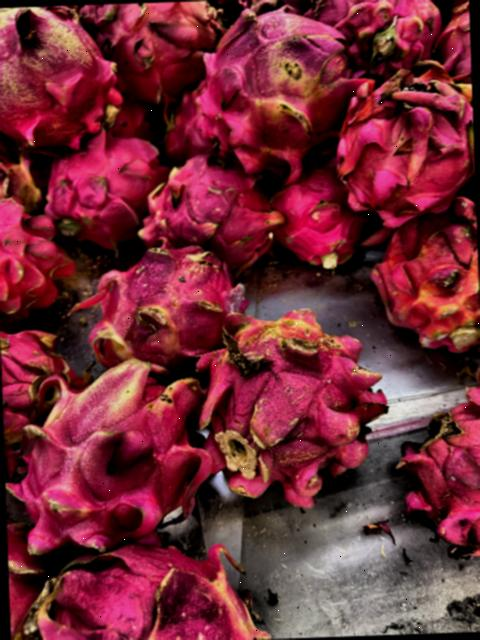buah-naga-belum-matang: (12, 347, 213, 560), (203, 3, 355, 174), (88, 238, 246, 362), (0, 4, 122, 154), (376, 203, 480, 353), (138, 151, 266, 258)
buah-naga-matang: (199, 301, 381, 496), (31, 543, 273, 640), (334, 61, 476, 215), (394, 376, 480, 562), (82, 1, 216, 97), (44, 128, 156, 242), (0, 196, 77, 321), (273, 161, 360, 266), (0, 316, 68, 450), (316, 0, 423, 71), (429, 0, 471, 90)
